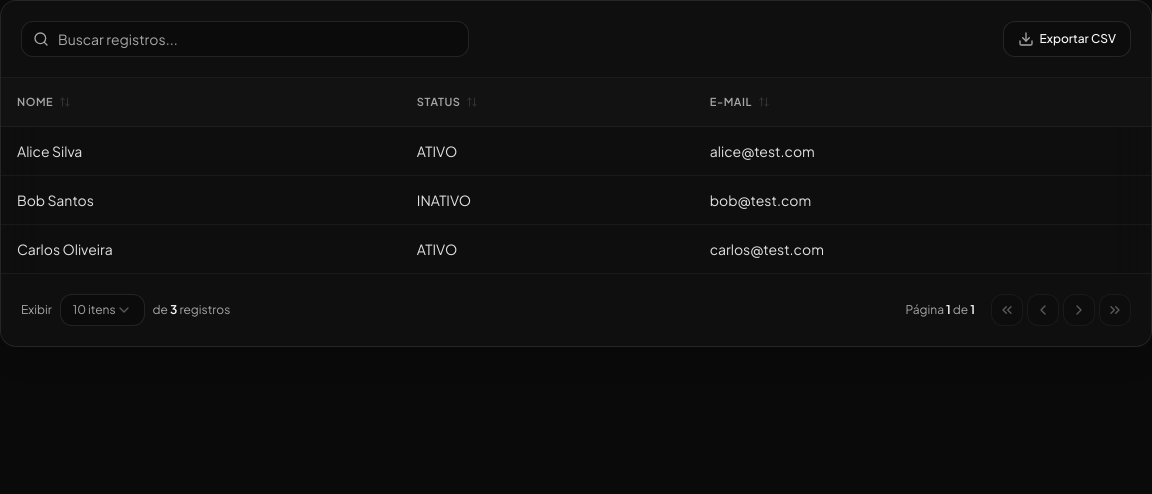
Test: DataTable › Shows "Nenhum registro encontrado" when filter matches nothing
In the field with placeholder "Buscar registros...": coordinates (245, 39) [21, 21, 469, 57], type "Xyz123"
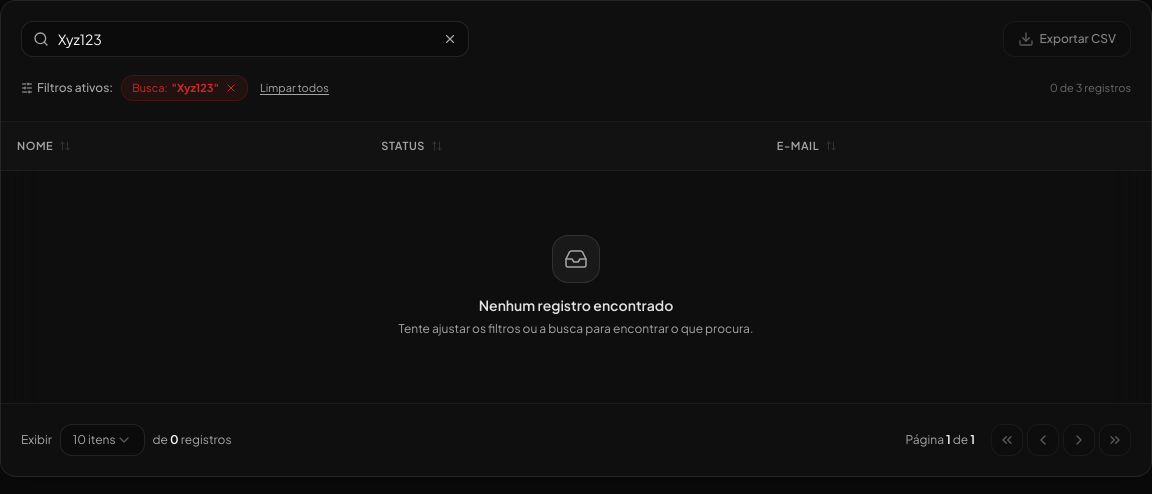
Expected: the text "Nenhum registro encontrado" is shown, [479, 296, 673, 314]
